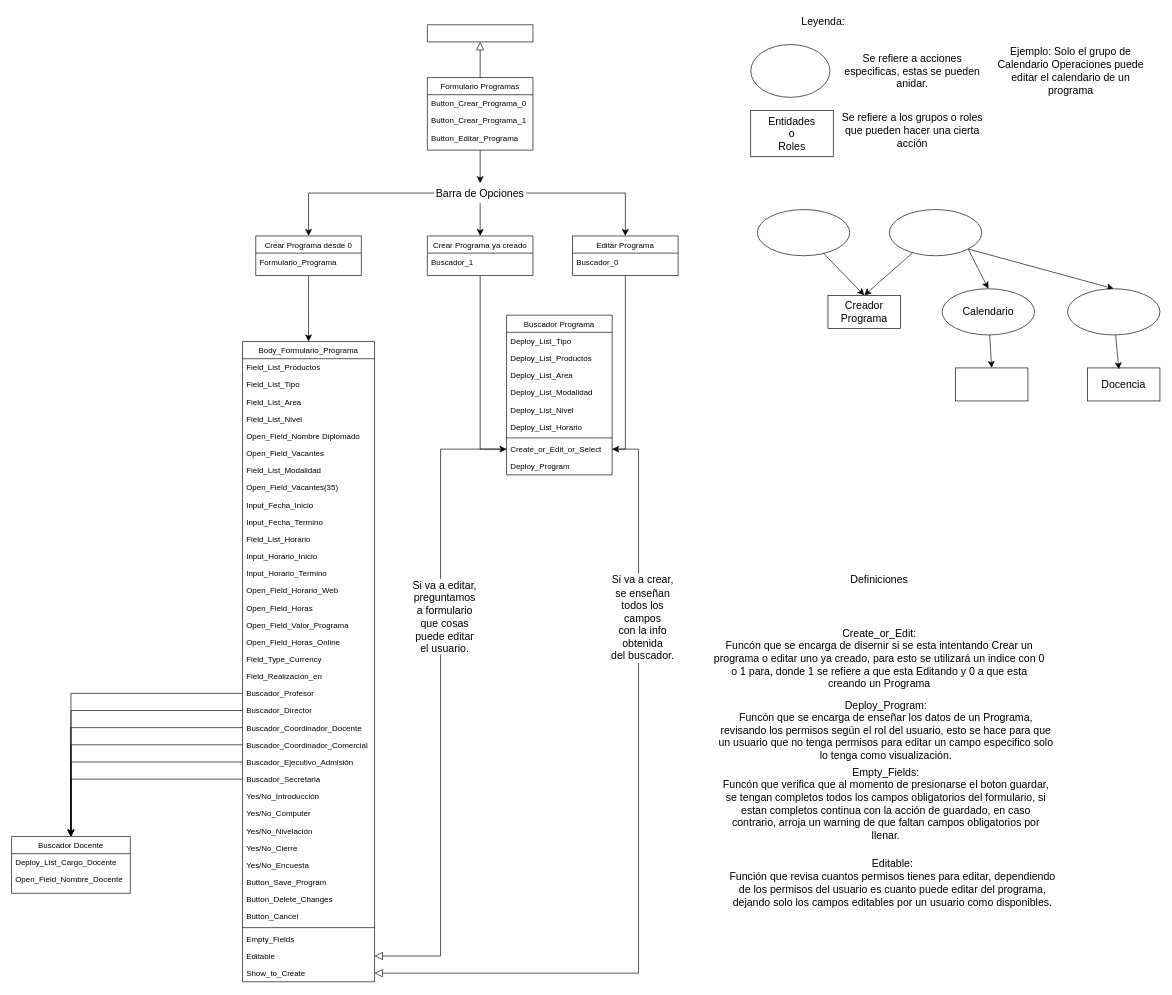
This 1172x995 diagram has some shape labels left out. Each missing label, with the centre of its shape:
Acciones: (x=790, y=70)
Calendario Operaciones: (x=991, y=384)
Crear Programas: (x=803, y=232)
Editar Programas: (x=935, y=232)
Intranet DashBoard: (x=480, y=33)
Profesores: (x=1113, y=311)
